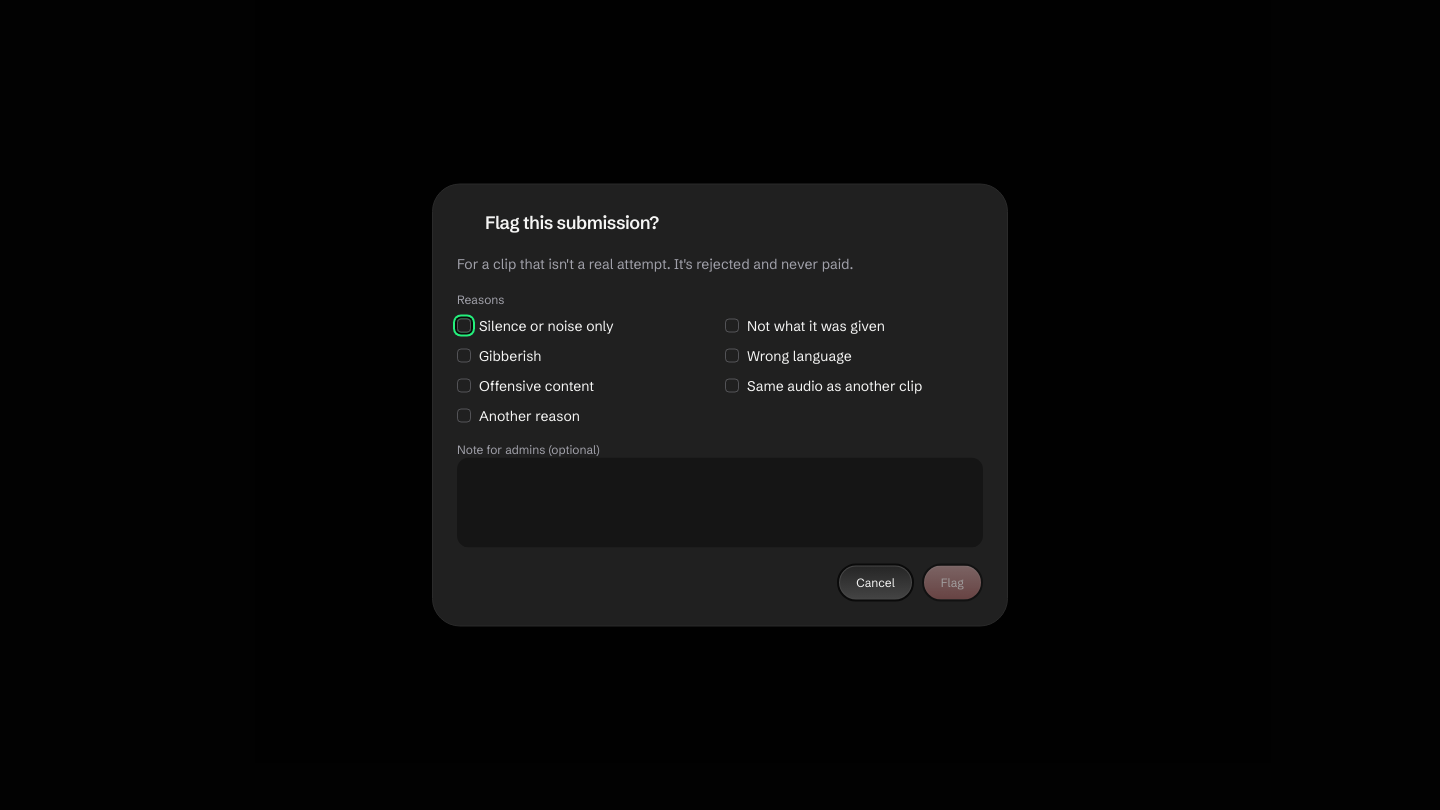
Test: FlagRecordingDialog › shows why a send was refused
Click the checkbox named "Gibberish" next to "Gibberish" at (464, 355), box x1=457 y1=348 x2=471 y2=362
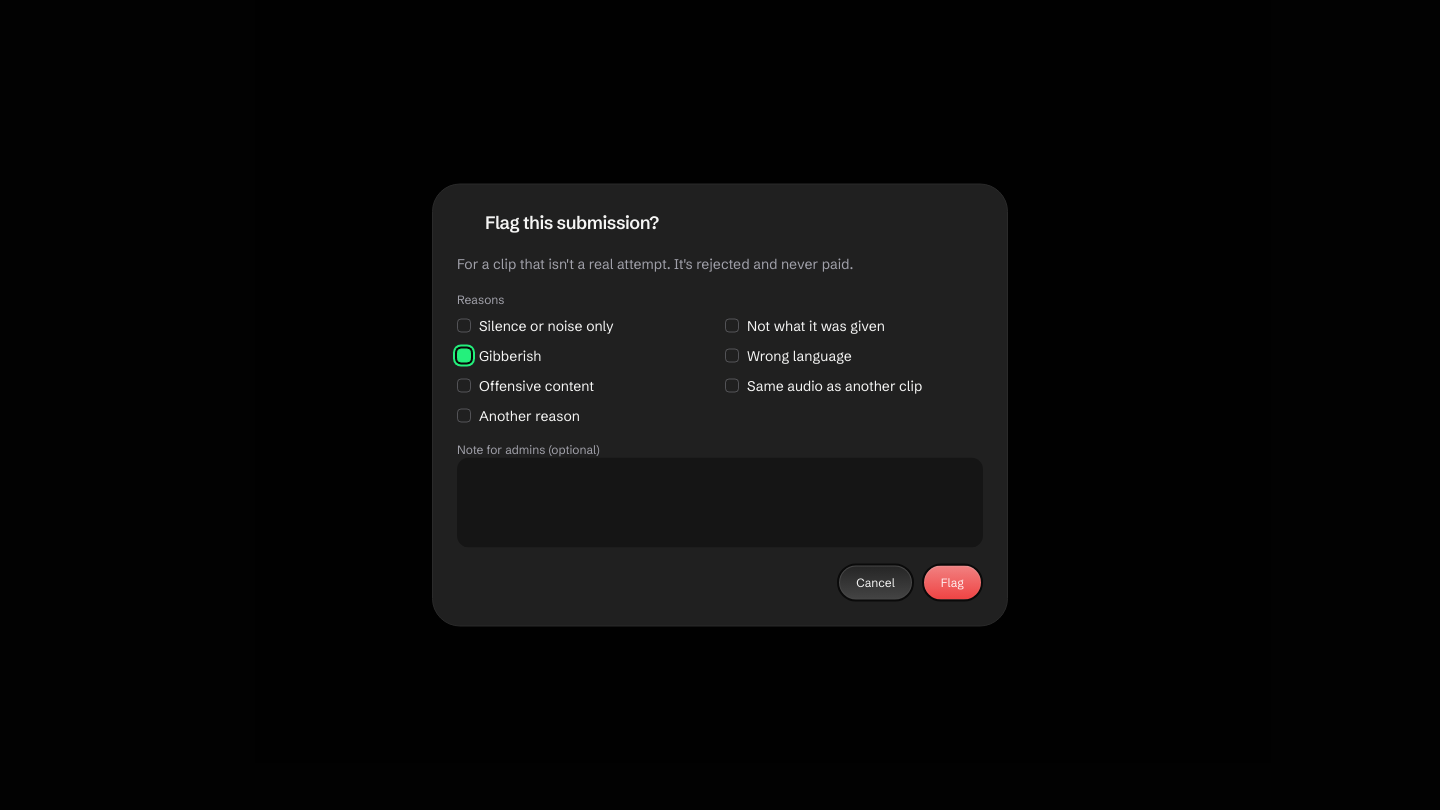
Click the button "Flag" at (952, 582), box x1=922 y1=564 x2=983 y2=602
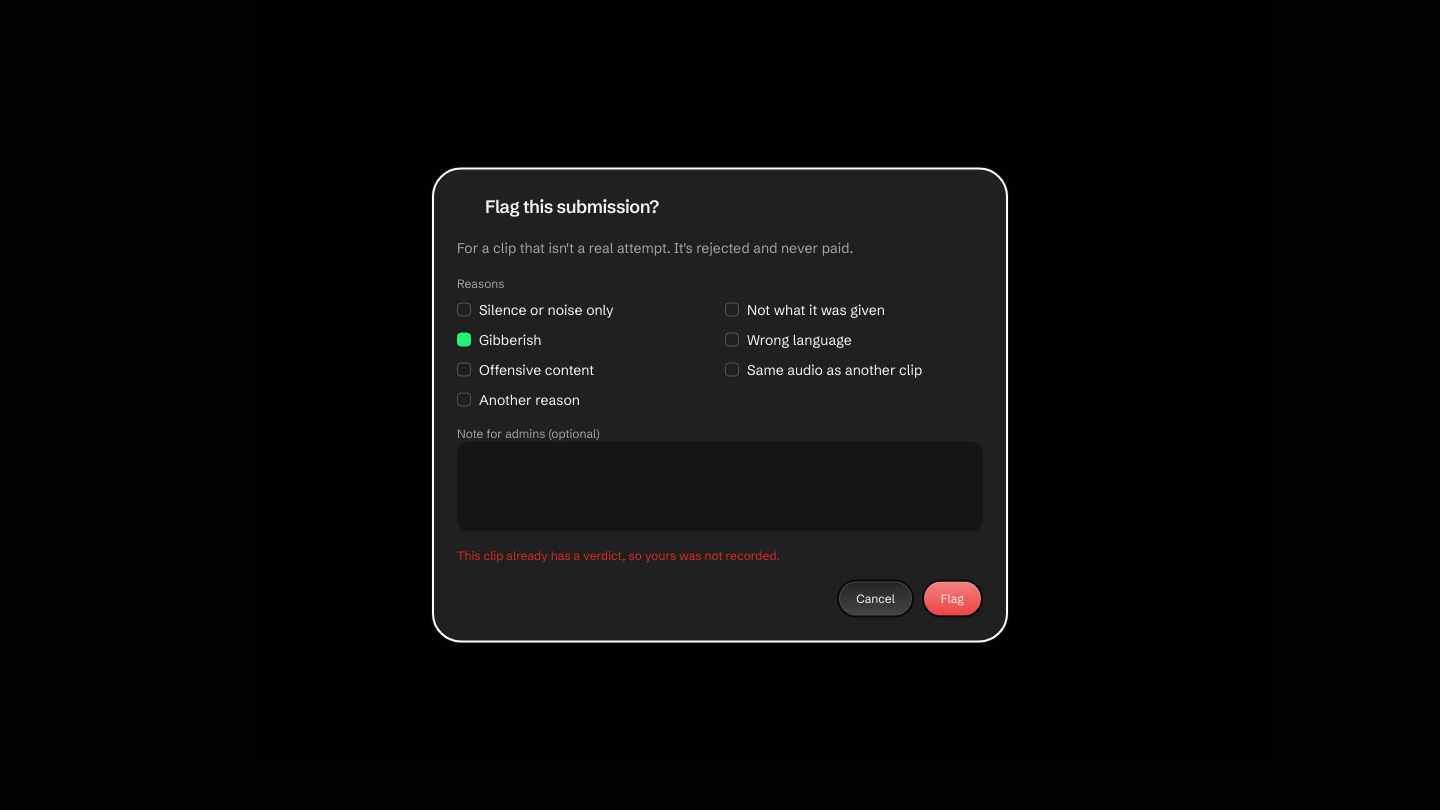
Now the message shows "already has a verdict", box x1=457 y1=548 x2=780 y2=562
